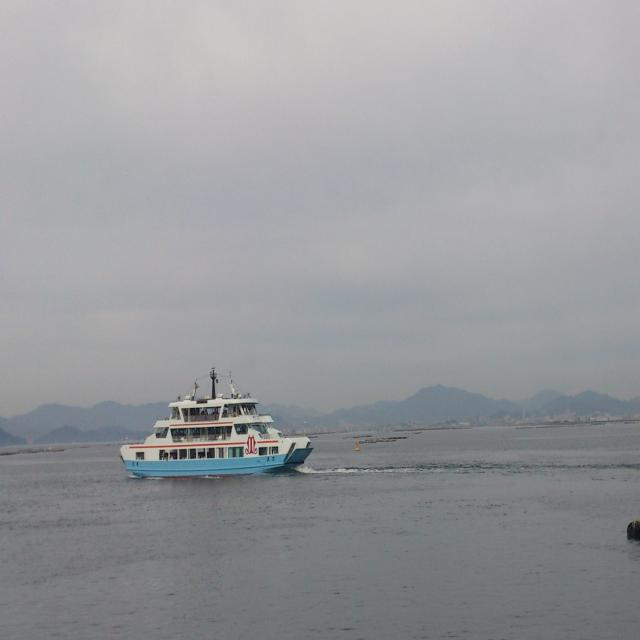passenger ship: (117, 384, 324, 478)
